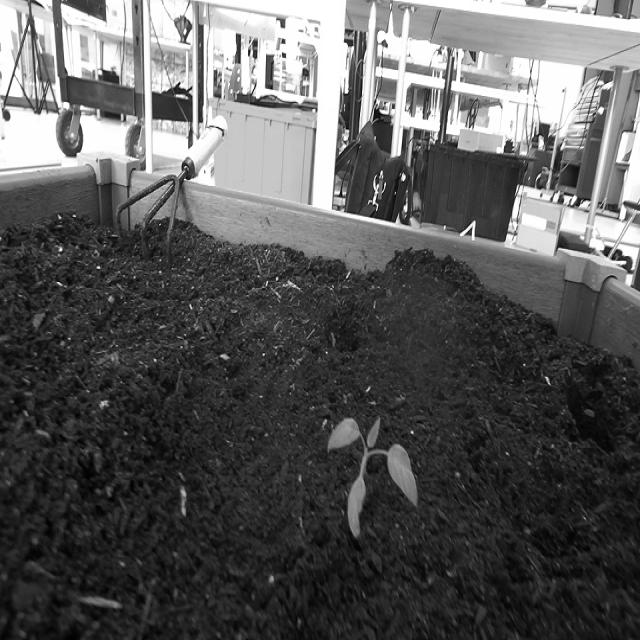Healthy: (323, 391, 428, 564)
